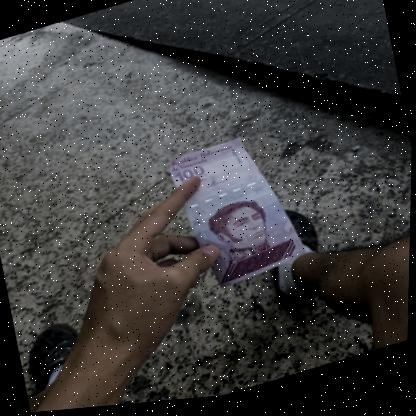one_hundred-front-vef: (164, 127, 312, 304)
